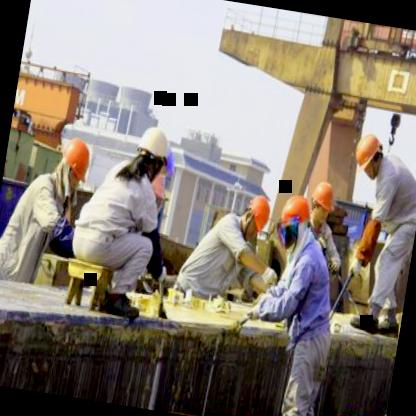helmet: (129, 120, 173, 182), (58, 133, 98, 189), (302, 176, 340, 232), (350, 126, 388, 180), (276, 192, 312, 244), (242, 193, 276, 240)
